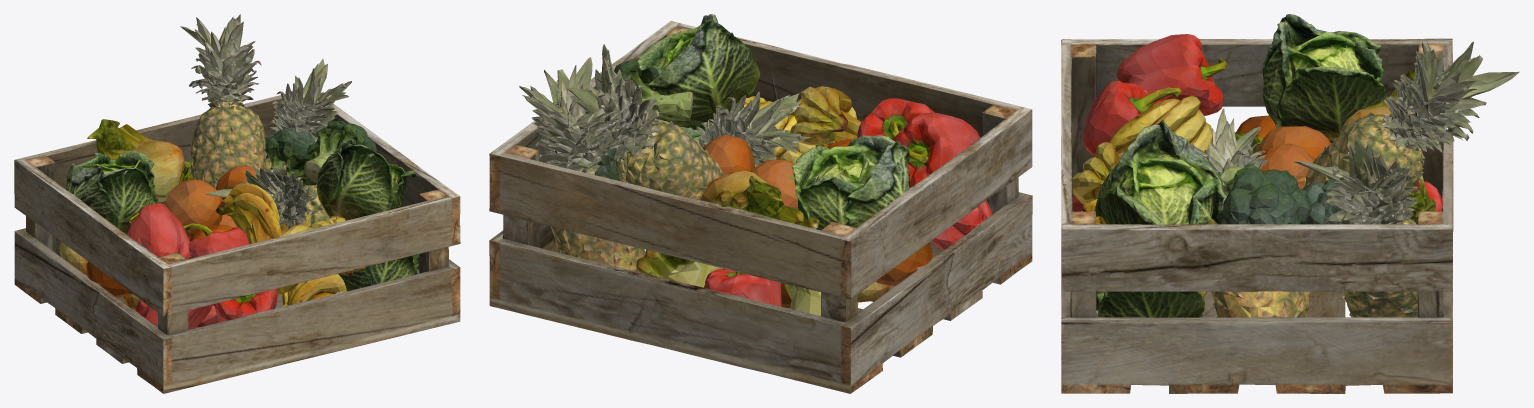
File: fruit_and_vegetable_basket.glb
The picture shows the model from 3 angles, left to right: view 1: azimuth 30°, elevation 25°; view 2: azimuth 150°, elevation 25°; view 3: azimuth 270°, elevation 25°; orthographic projection. The views are drawn at different scales.
Parts seen in each view (by area): view 1: Material2 (×2); view 2: Material2 (×2); view 3: Material2 (×2).
Boxes of the visible parts, x1,y1,x2,y2 form: Material2 (×2): (14,14,460,393); Material2 (×2): (489,14,1032,393); Material2 (×2): (1061,14,1519,393).
Bounding box in the file's own units: 1430 × 1044 × 1453.
Materials: 2 (2 with a texture image).
